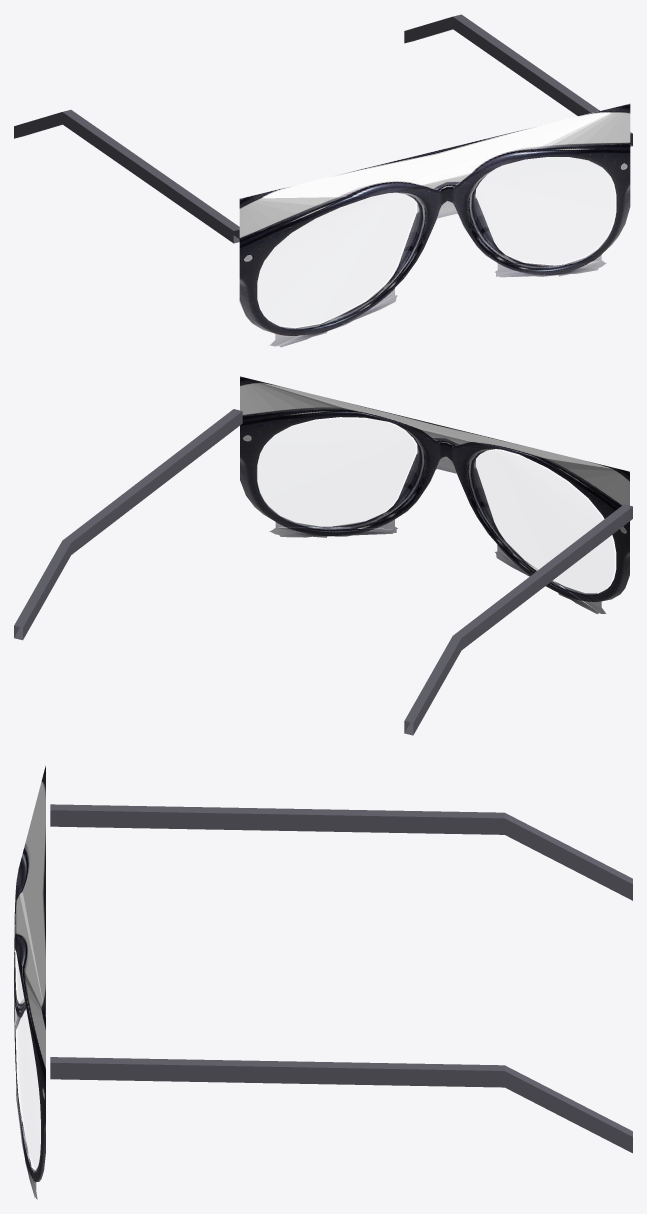
File: gothamstyle-245_black.glb
3 views of the same model, one above another, from view 1: azimuth 30°, elevation 25°; view 2: azimuth 150°, elevation 25°; view 3: azimuth 270°, elevation 25° (orthographic). The views are drawn at different scales.
Visible parts, largest first — view 1: frame_front, temple_viewer_left, temple_viewer_right; view 2: frame_front, temple_viewer_left, temple_viewer_right; view 3: temple_viewer_right, temple_viewer_left, frame_front.
Part boxes in pixels (box(x1,y1,x2,y2)): frame_front: box(239, 103, 630, 347); temple_viewer_left: box(14, 110, 239, 243); temple_viewer_right: box(404, 14, 632, 146); frame_front: box(240, 376, 629, 614); temple_viewer_left: box(404, 504, 632, 735); temple_viewer_right: box(14, 409, 242, 640); temple_viewer_right: box(50, 1057, 632, 1153); temple_viewer_left: box(50, 804, 632, 900); frame_front: box(14, 765, 45, 1199).
Bounding box in the file's own units: 0.1343 × 0.0497 × 0.136.
3 materials, 2 textured.
